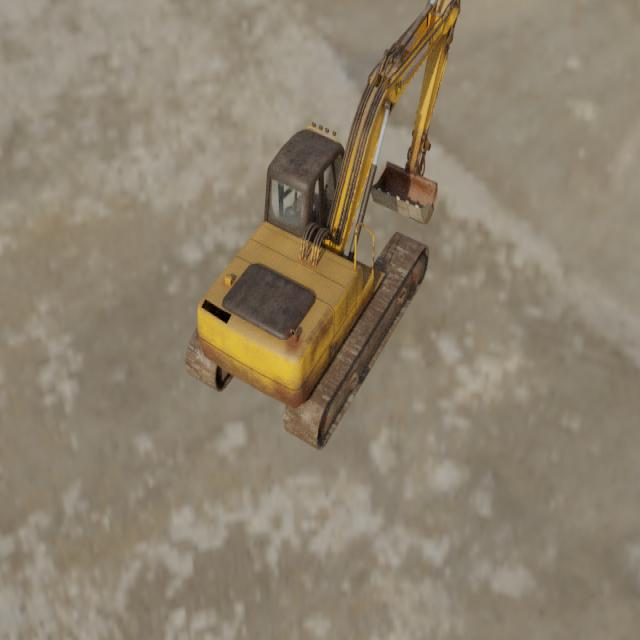excavator: (184, 0, 461, 452)
